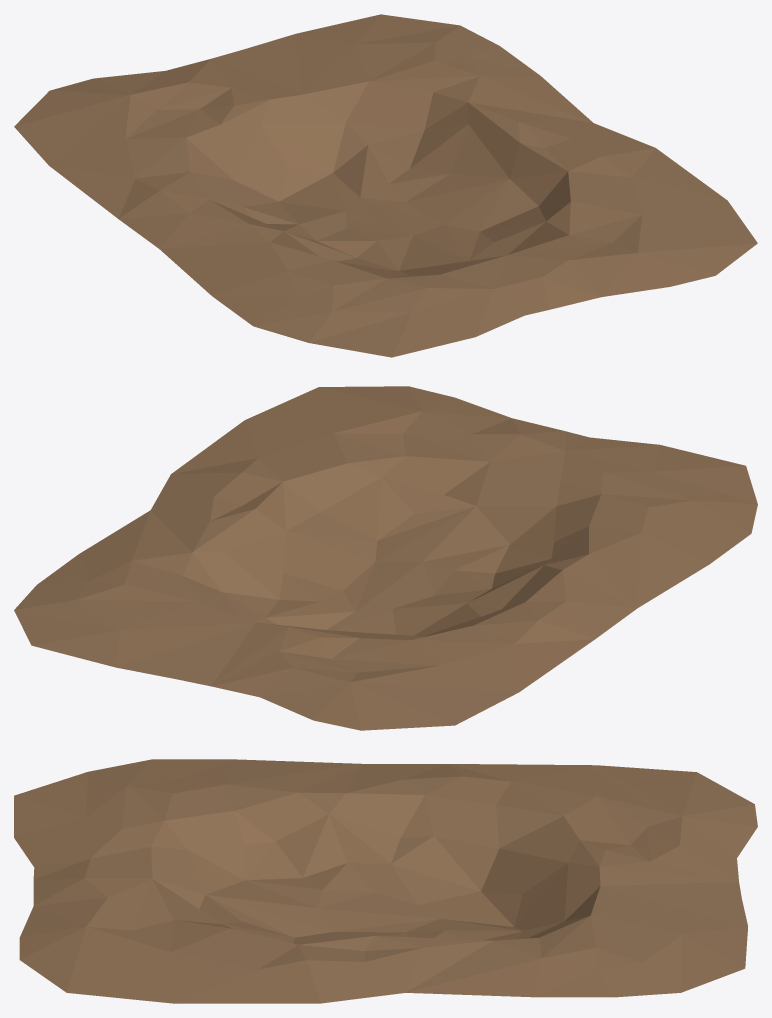
Rendered from SM_Env_Dirt_Hole_01.glb.
3 renders of one model, top to bottom at view 1: azimuth 30°, elevation 25°; view 2: azimuth 150°, elevation 25°; view 3: azimuth 270°, elevation 25°, orthographic. The views are drawn at different scales.
Parts seen in each view (by area): view 1: SM_Env_Dirt_Hole_01; view 2: SM_Env_Dirt_Hole_01; view 3: SM_Env_Dirt_Hole_01.
Boxes of the visible parts, x1,y1,x2,y2 form: SM_Env_Dirt_Hole_01: [14, 14, 757, 357]; SM_Env_Dirt_Hole_01: [14, 386, 757, 730]; SM_Env_Dirt_Hole_01: [14, 759, 757, 1003].
Bounding box in the file's own units: 9.3 × 0.9144 × 11.98.
1 material, 1 textured.
